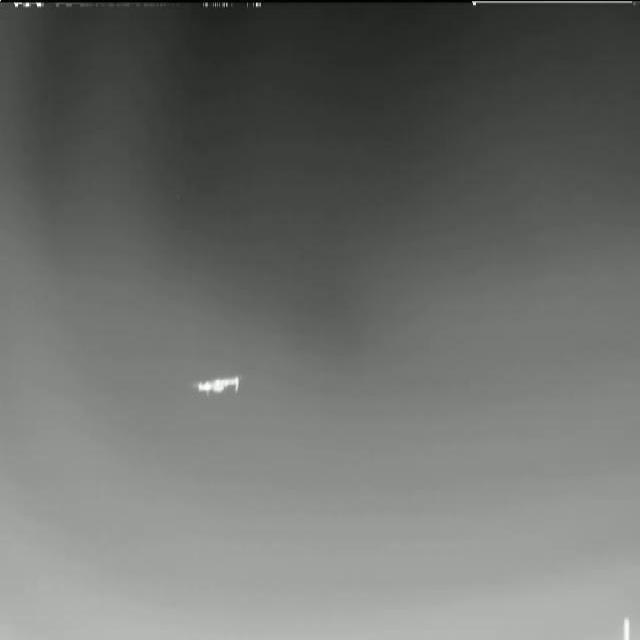DRONE: (189, 365, 244, 407)
